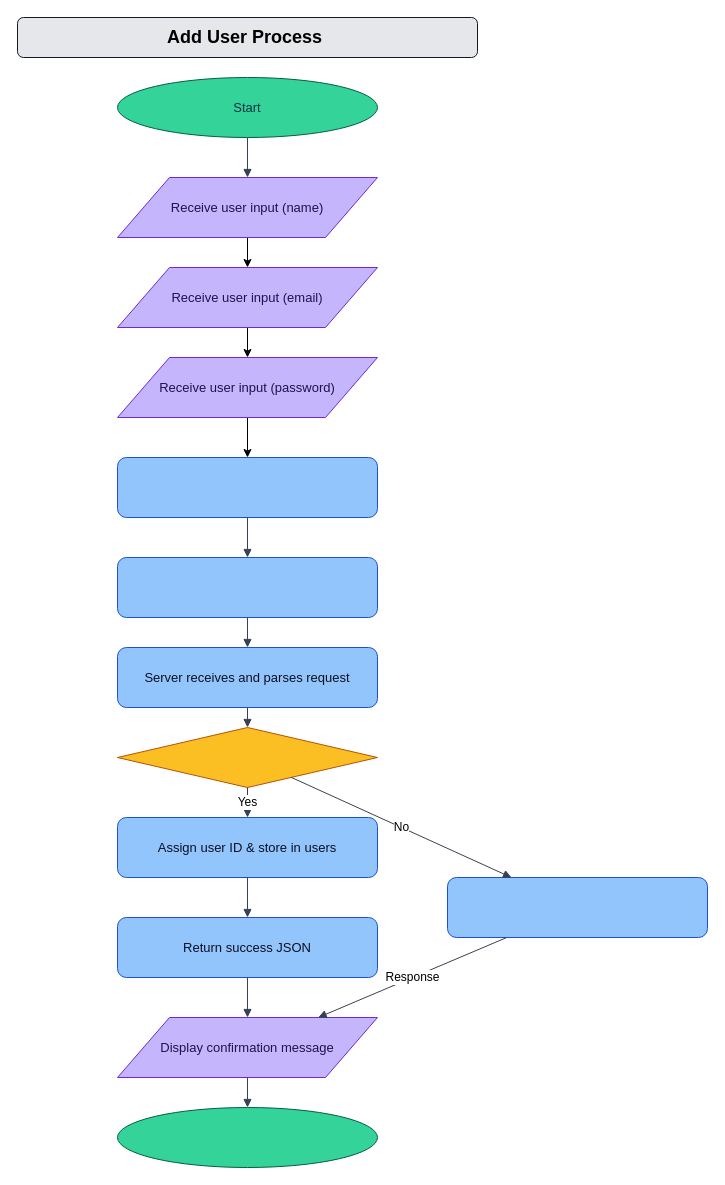
The diagram is 725 pixels wide and 1185 high, and some of its shapes have lost their labels. Each missing label, with the box of its shape:
Build JSON request: (116, 456, 378, 518)
End: (116, 1106, 378, 1168)
Return error JSON: (446, 876, 708, 938)
Send request to server (JSON over TCP): (116, 556, 378, 618)
Valid Email?: (116, 726, 378, 788)
